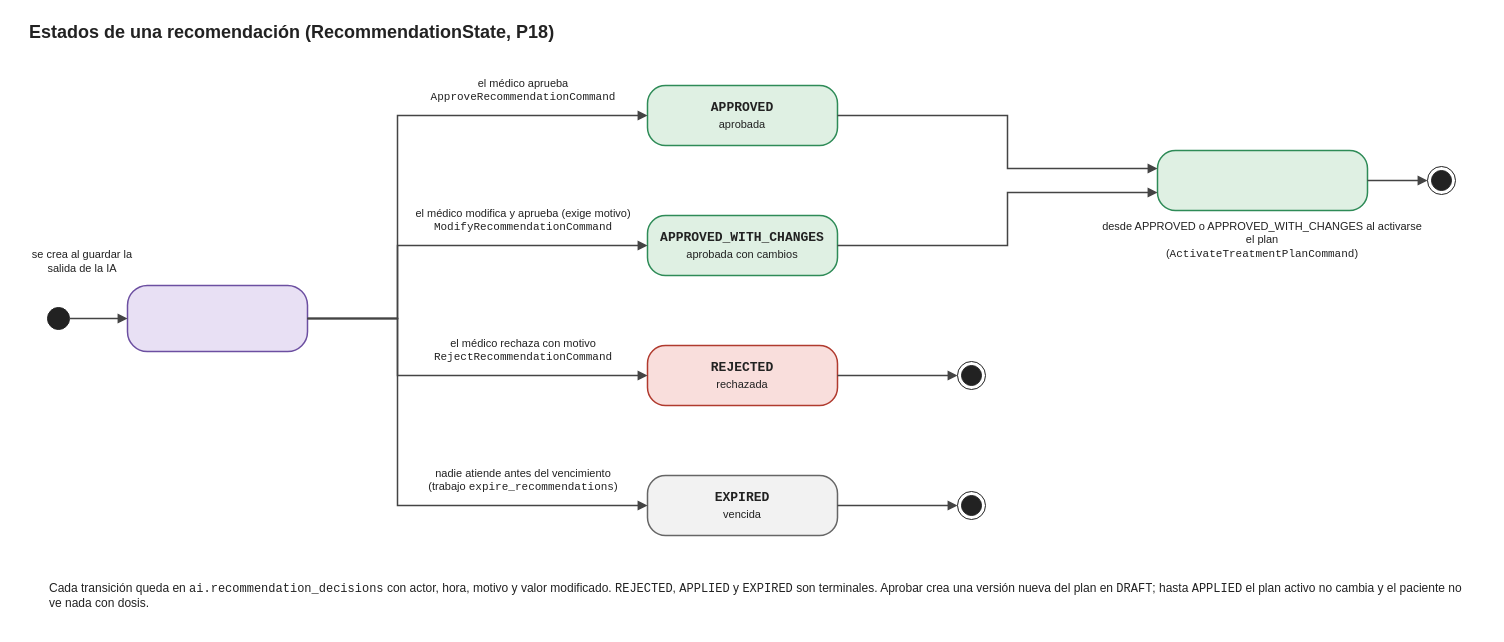
The diagram is 1504 pixels wide and 642 high, and some of its shapes have lost their labels. The shapes that lost their labels are listed below. From the top down, each one's centre as x and y in pixels, then its label:
At point 1262,180: "APPLIED aplicada: se activó la versión del plan que la incluye".
At point 217,318: "PROPOSED la IA o el respaldo propone".
